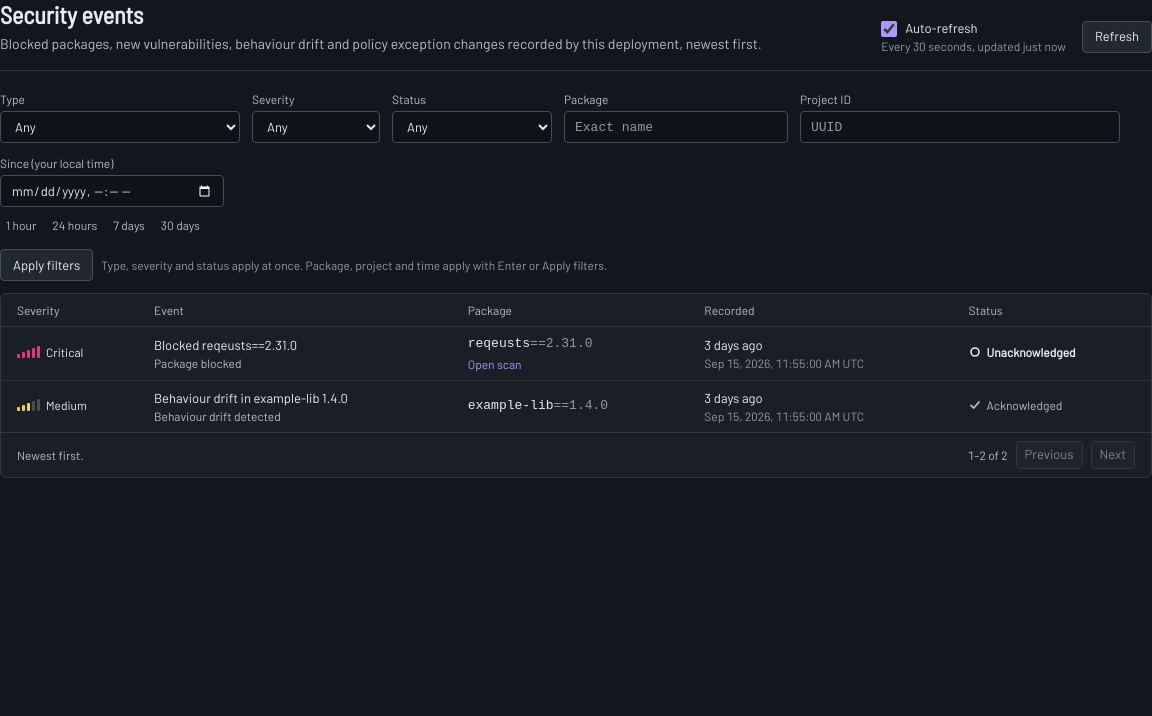
Test: Events › shows details as plain text in a dialog, links the scan and returns focus on Escape
Click the button "Blocked reqeusts==2.31.0" at x=226, y=346, box [154, 336, 297, 355]
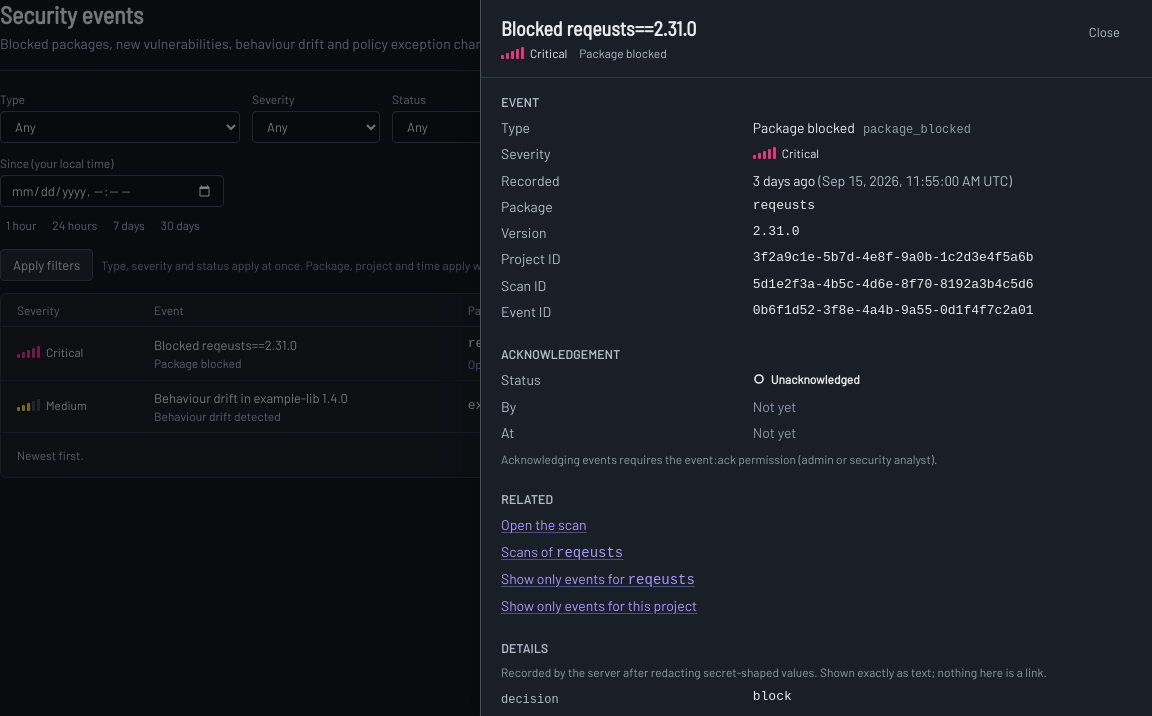
Press Escape
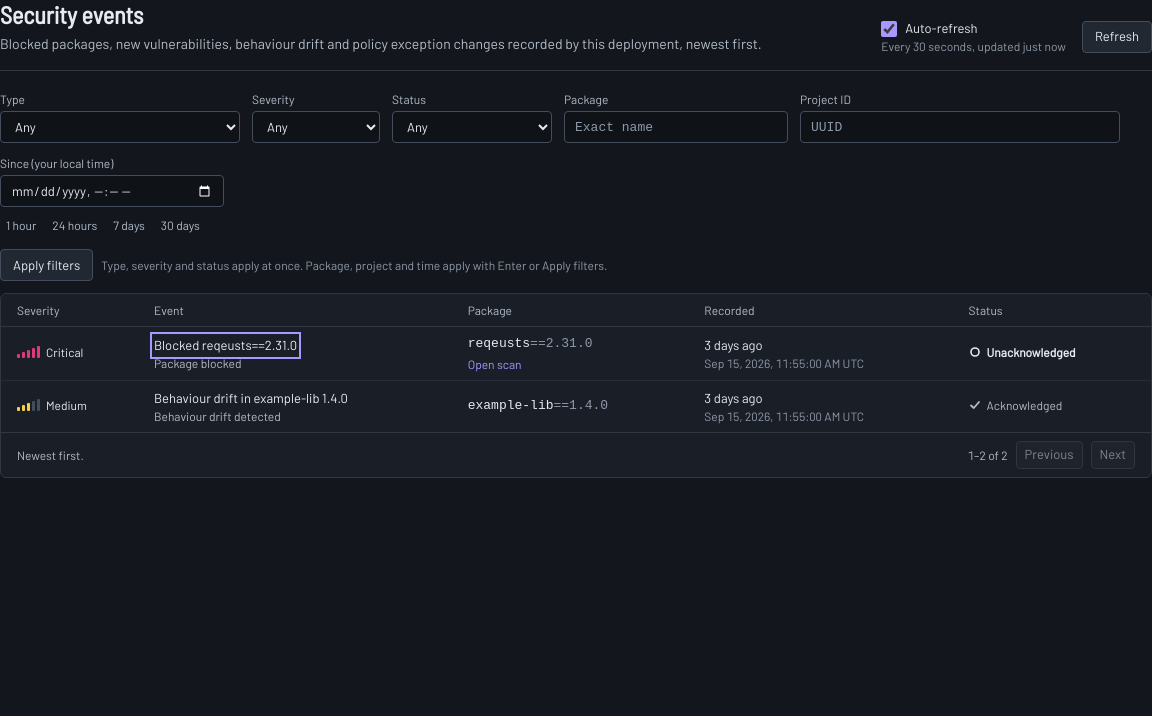
Click the button "Blocked reqeusts==2.31.0" at x=226, y=346, box [154, 336, 297, 355]
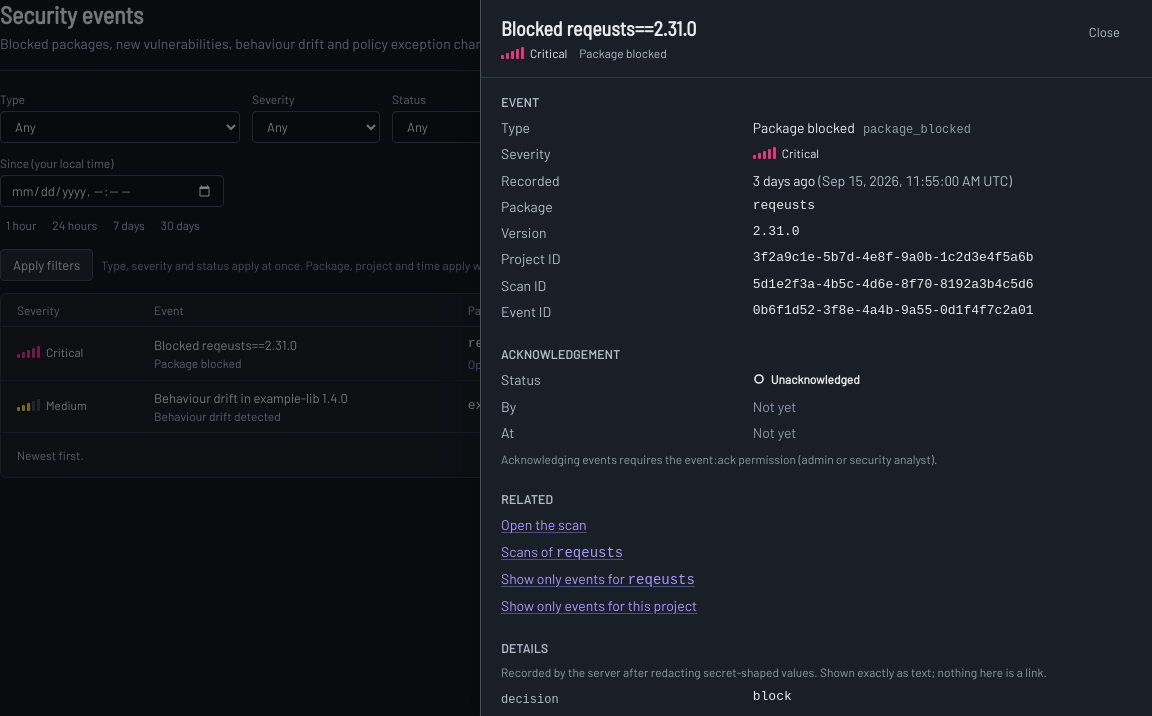
Click the button "Show only events for reqeusts" at x=598, y=580, box [501, 569, 695, 590]
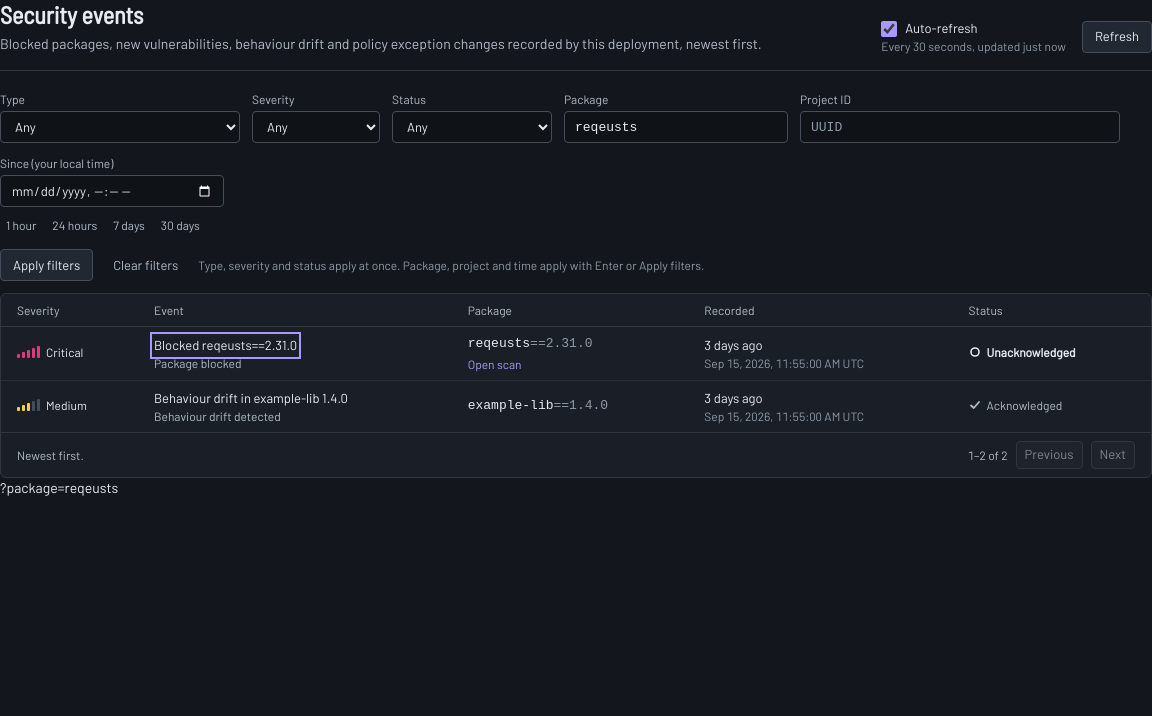
Result: the text named "Current search" reads "?package=reqeusts" at [0, 479, 118, 496]
